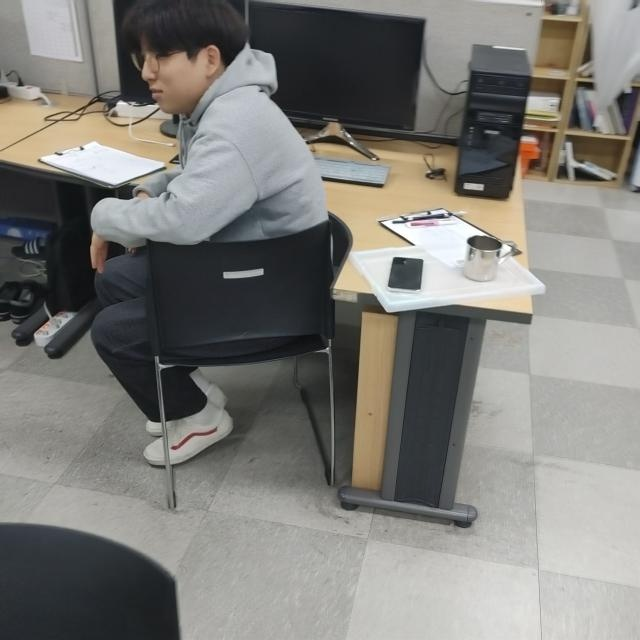cup: (461, 237, 517, 283)
phone: (387, 256, 425, 291)
